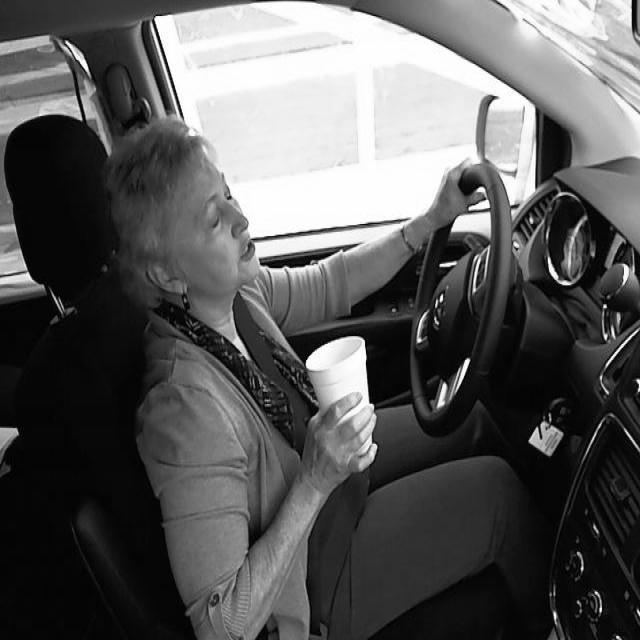Drinking: (95, 109, 384, 499)
